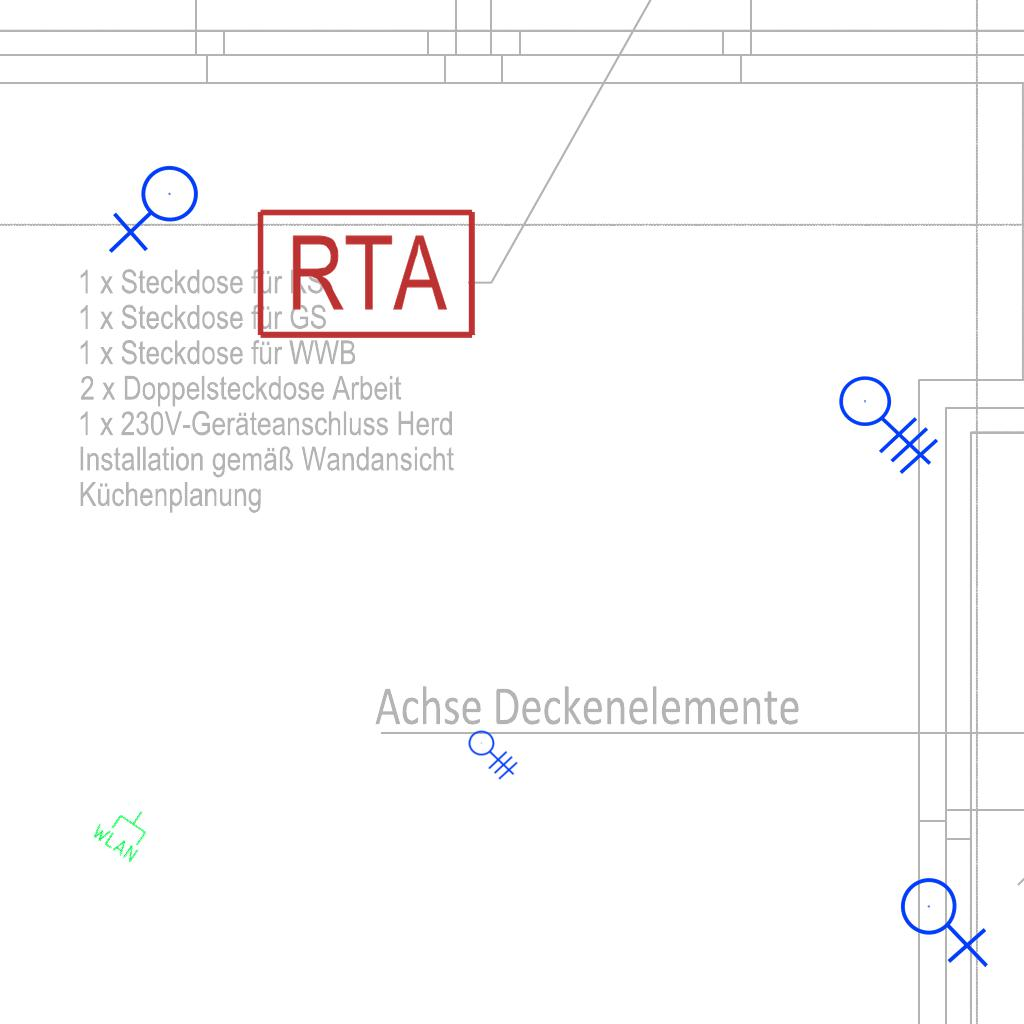Elektroanschluss_allgemein_230V_Geraeteanschlussdose_230V: (108, 164, 207, 258), (899, 869, 993, 968)
Elektroanschluss_allgemein_400V_Geraeteanschlussdose_400V: (838, 359, 951, 475), (468, 722, 524, 780)
Ruf-und_Abstelltaster: (250, 205, 478, 343)
WLAN: (87, 792, 161, 866)
